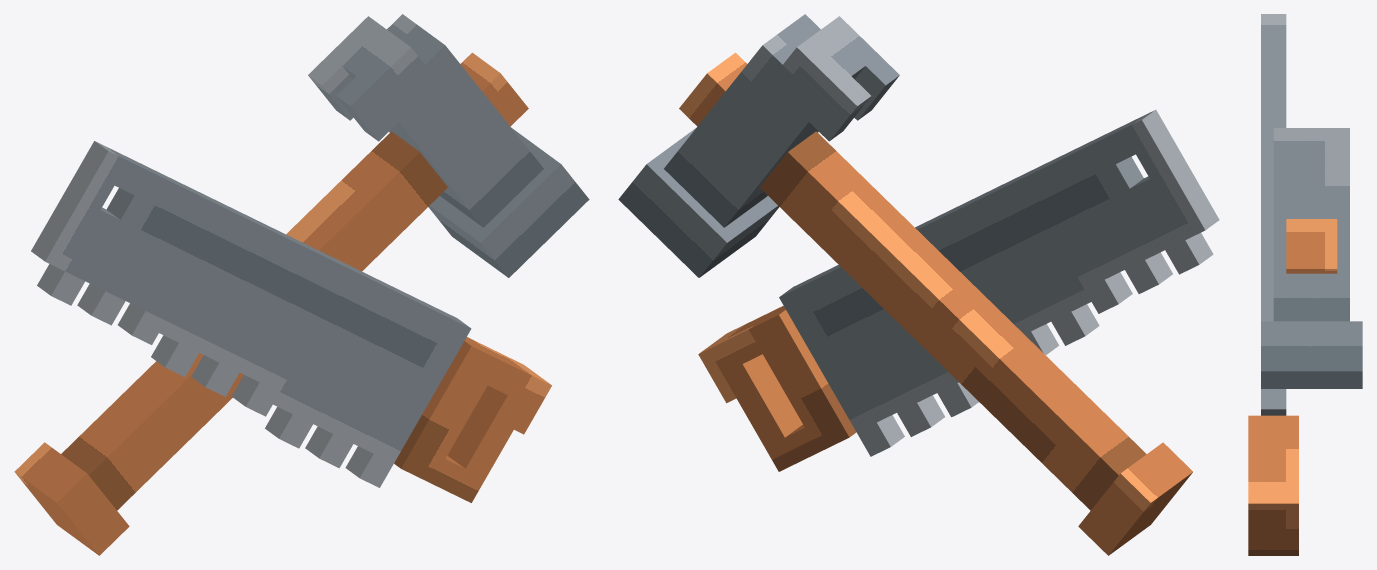
Rendered from icon_tools_b.gltf.
3 views of the same model, side by side, from view 1: azimuth 30°, elevation 25°; view 2: azimuth 150°, elevation 25°; view 3: azimuth 270°, elevation 25° (orthographic). The views are drawn at different scales.
Parts seen in each view (by area): view 1: Tool2-Local, Tool1-Local; view 2: Tool1-Local, Tool2-Local; view 3: Tool1-Local, Tool2-Local.
Part boxes in pixels (x1,y1,x2,y2): Tool2-Local: (31,141,551,502); Tool1-Local: (14,14,589,555); Tool1-Local: (618,14,1192,555); Tool2-Local: (698,110,1219,471); Tool1-Local: (1261,128,1362,388); Tool2-Local: (1248,14,1298,555).
Size of the model in its own units: 44.24 by 35.48 by 9.
2 materials, 2 textured.
